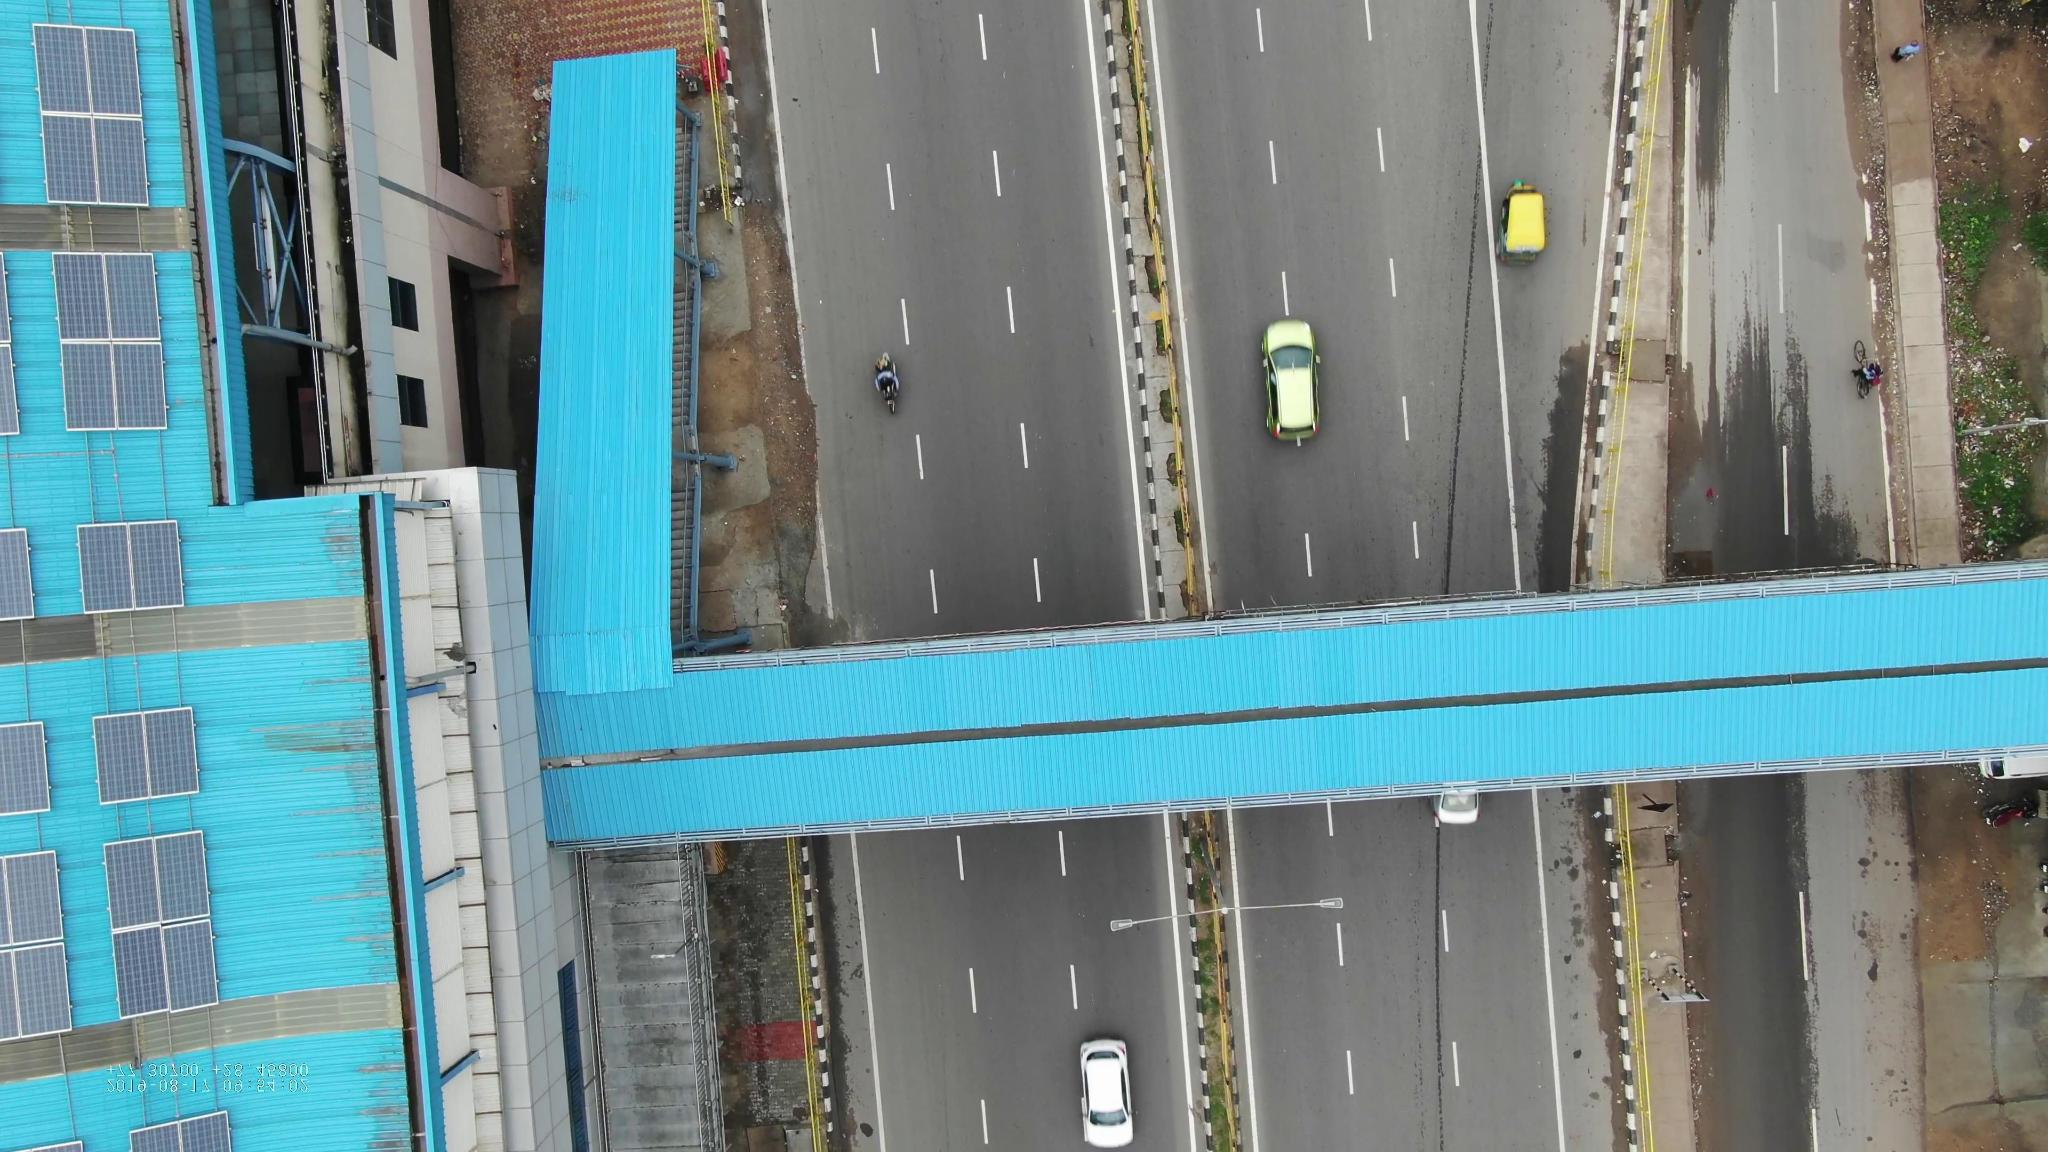Muddy_road: (729, 198, 807, 570)
Road_side_garbage: (1948, 325, 2044, 558)
